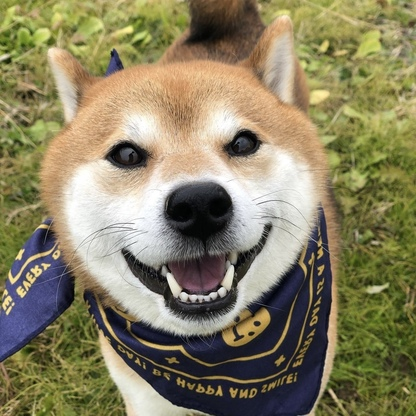shiba: (36, 1, 358, 416)
